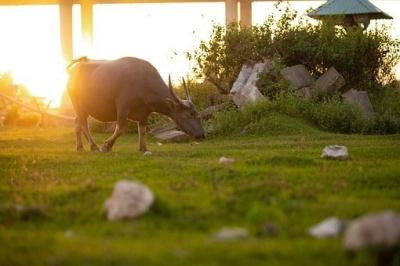buffalo: (65, 57, 205, 155)
